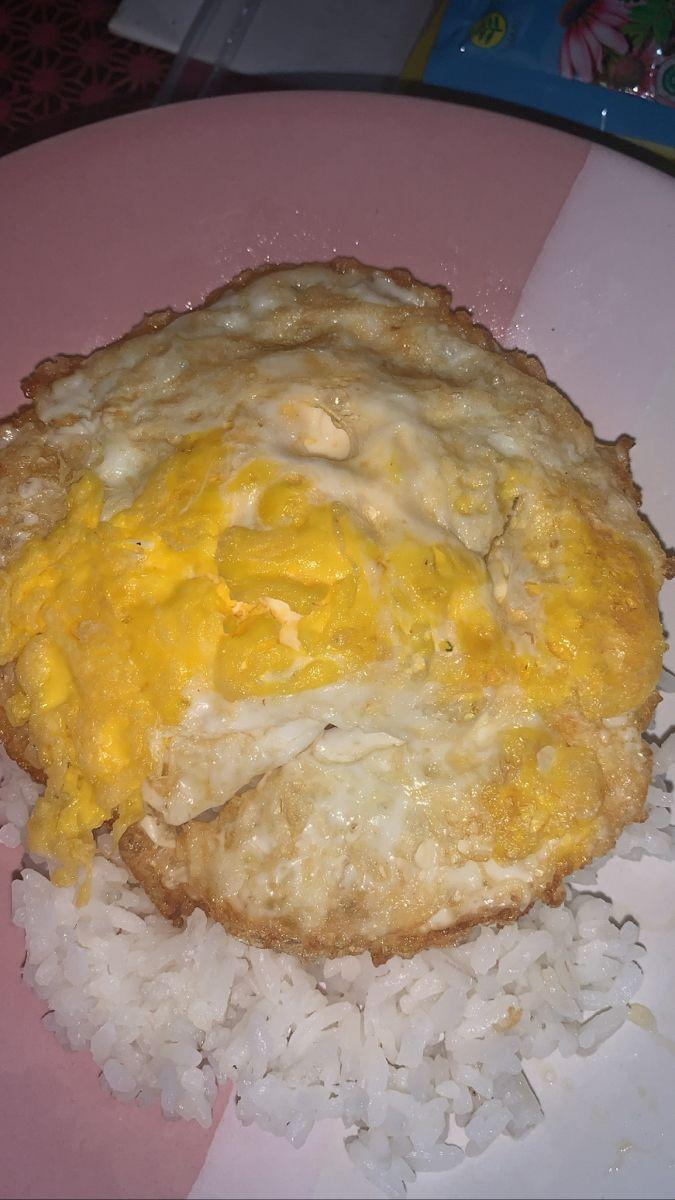makanan_berpati: (209, 970, 521, 1096)
telur: (103, 350, 536, 864)
